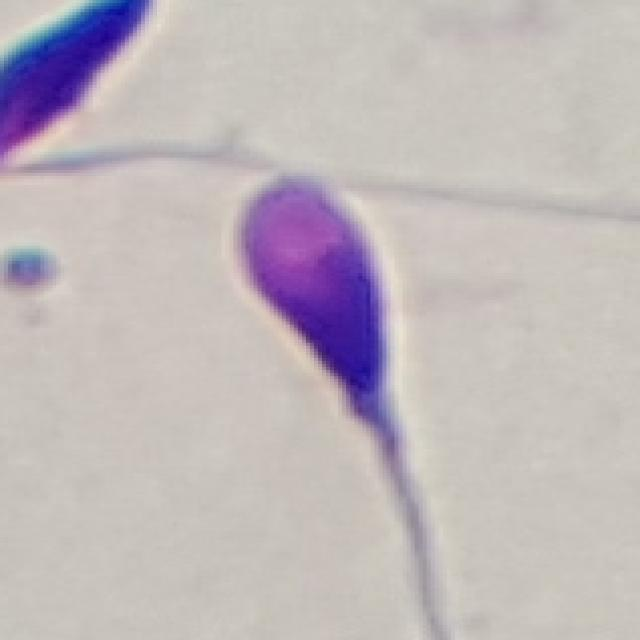abnormal sperm: (218, 180, 478, 619)
